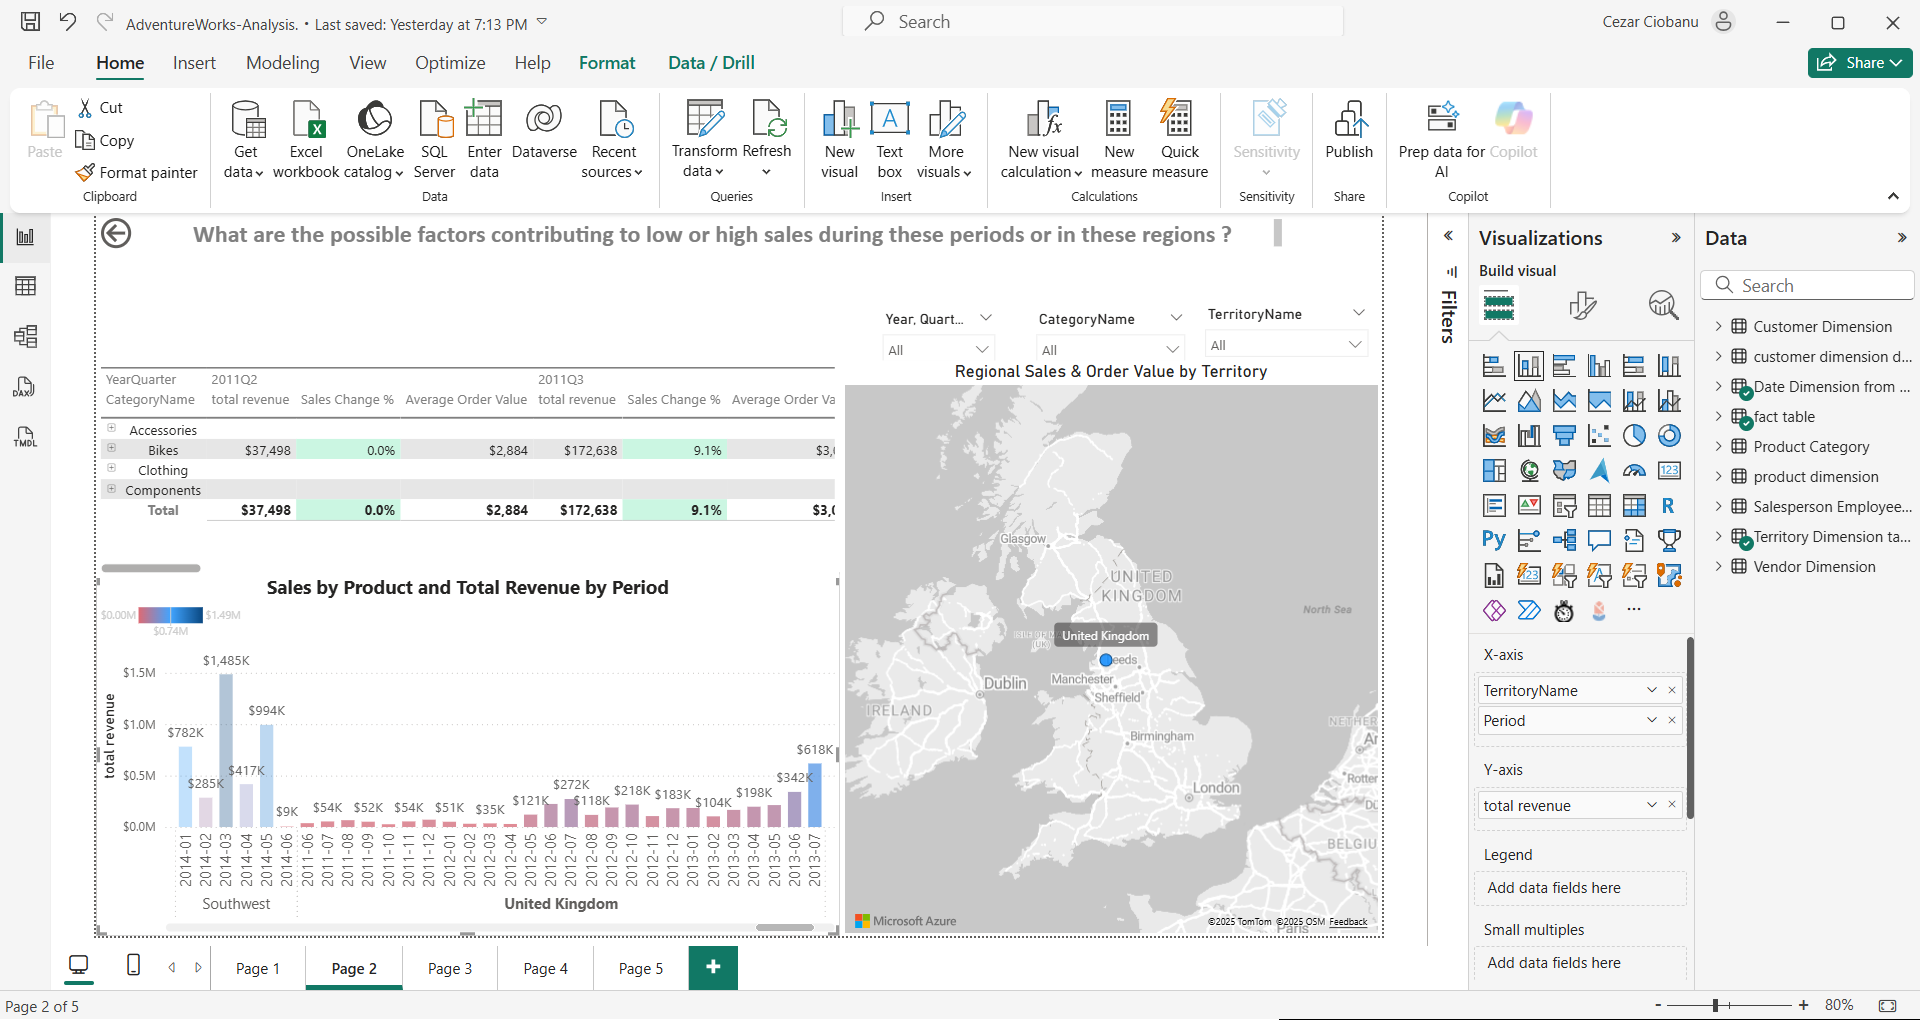

What the dashboard file says about the page in this screenshot:
{"tool":"powerbi","page":{"name":"Page 2","canvas":[1280,720],"ordinal":1},"visuals":[{"type":"columnChart","title":"Sales by Product and Total Revenue by Period","fields":{"Category":["Territory Dimension table.TerritoryName","Date Dimension from orders.Period"],"Y":["fact table.total revenue"]},"box":[0,359.5,740.2,360.7],"z":0},{"type":"slicer","title":"Period","fields":{"Values":["Date Dimension from orders.Year","Date Dimension from orders.Quarter"]},"box":[772.2,92.2,132.2,56.7],"z":1000},{"type":"actionButton","box":[0,0,100,40],"z":2000},{"type":"slicer","fields":{"Values":["Product Category.CategoryName"]},"box":[925,92.5,168.8,55],"z":3000},{"type":"slicer","fields":{"Values":["Territory Dimension table.TerritoryName"]},"box":[1093.8,87.5,182.5,60],"z":4000},{"type":"textbox","box":[50,1.7,1135,38.3],"z":5000},{"type":"pivotTable","fields":{"Rows":["Product Category.CategoryName","product dimension.ProductName"],"Columns":["Date Dimension from orders.YearQuarter"],"Values":["fact table.total revenue","fact table.Sales Change %","fact table.Average Order Value"]},"box":[0,147.5,740,215],"z":6000},{"type":"azureMap","title":"Regional Sales & Order Value by Territory ","fields":{"Category":["Territory Dimension table.TerritoryName","Territory Dimension table.TerritoryGroup","Territory Dimension table.CountryRegionCode"],"Size":["fact table.total revenue"]},"box":[740,146.2,540,573.8],"z":7000}]}

Visuals, with their boxes on the page's 1280x720 design canvas (x1, y1, x2, y2). These are canvas units, not pixel positions in the 1920x1020 screenshot, which may show the page scaled, cropped or inside an application window:
"Sales by Product and Total Revenue by Period" columnChart: 0,360,740,720
"Period" slicer: 772,92,904,149
actionButton: 0,0,100,40
slicer - Product Category.CategoryName: 925,92,1094,148
slicer - Territory Dimension table.TerritoryName: 1094,88,1276,148
textbox: 50,2,1185,40
pivotTable - Product Category.CategoryName x product dimension.ProductName: 0,148,740,362
"Regional Sales & Order Value by Territory " azureMap: 740,146,1280,720
